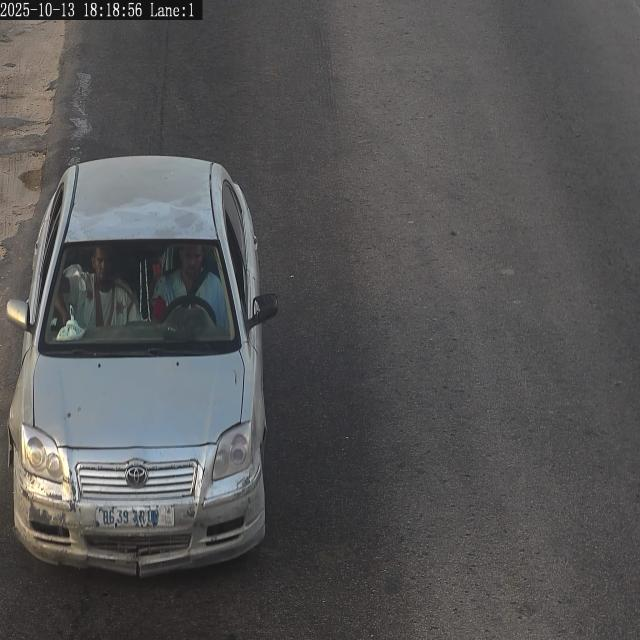BUS: (96, 506, 174, 528)
